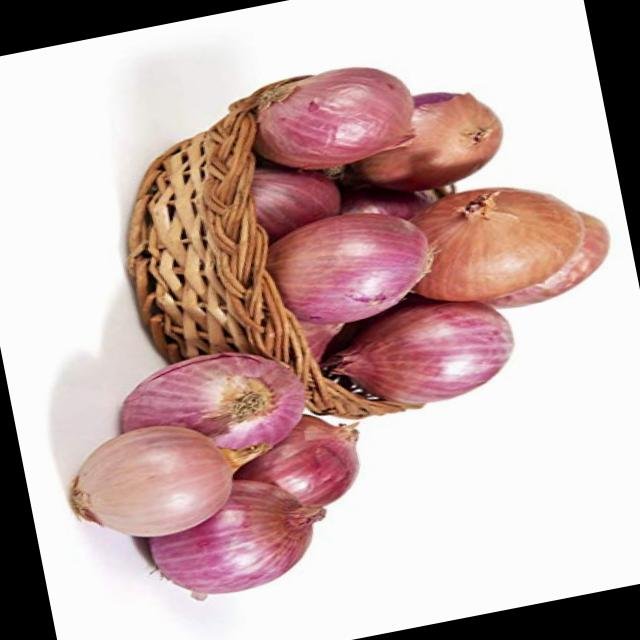orange: (63, 406, 280, 549), (141, 468, 331, 610), (122, 332, 314, 468), (326, 290, 530, 416), (402, 166, 584, 306), (263, 195, 446, 331), (245, 49, 431, 180), (360, 83, 506, 195)
